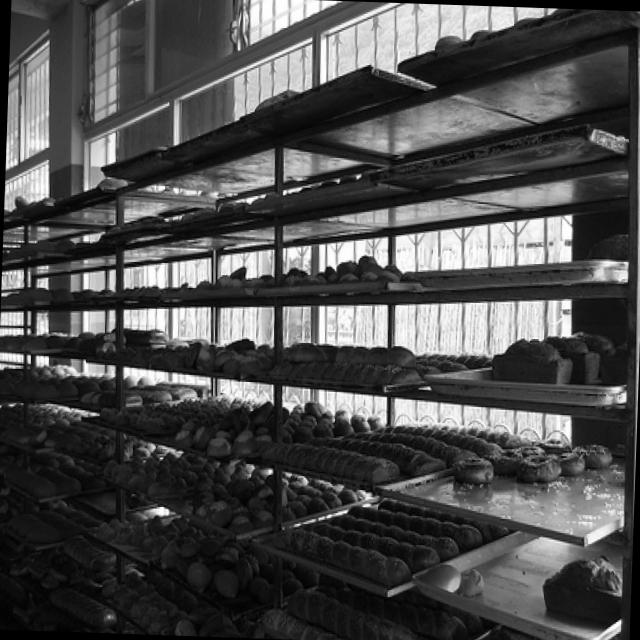2001: (90, 0, 148, 122), (10, 36, 49, 167)
bread: (102, 392, 386, 454), (159, 516, 318, 600), (103, 448, 241, 498), (129, 333, 287, 373), (280, 254, 416, 284)
bread roll: (164, 464, 368, 528)
cakes: (273, 499, 511, 585), (453, 440, 614, 484)
ceiling beam: (10, 0, 80, 57)
shelves crop: (0, 9, 640, 640)
sponge: (249, 572, 481, 640), (260, 420, 533, 476), (271, 341, 494, 385), (494, 330, 628, 383), (6, 450, 110, 495), (52, 582, 119, 629), (62, 533, 118, 569)
tray: (374, 122, 631, 190), (156, 487, 377, 538), (426, 363, 634, 402), (151, 553, 265, 620), (248, 174, 414, 218), (249, 452, 414, 488), (1, 477, 116, 504), (265, 374, 428, 393), (259, 278, 421, 295)
tray occluded: (379, 444, 633, 545)
wall clock: (6, 0, 597, 224)
